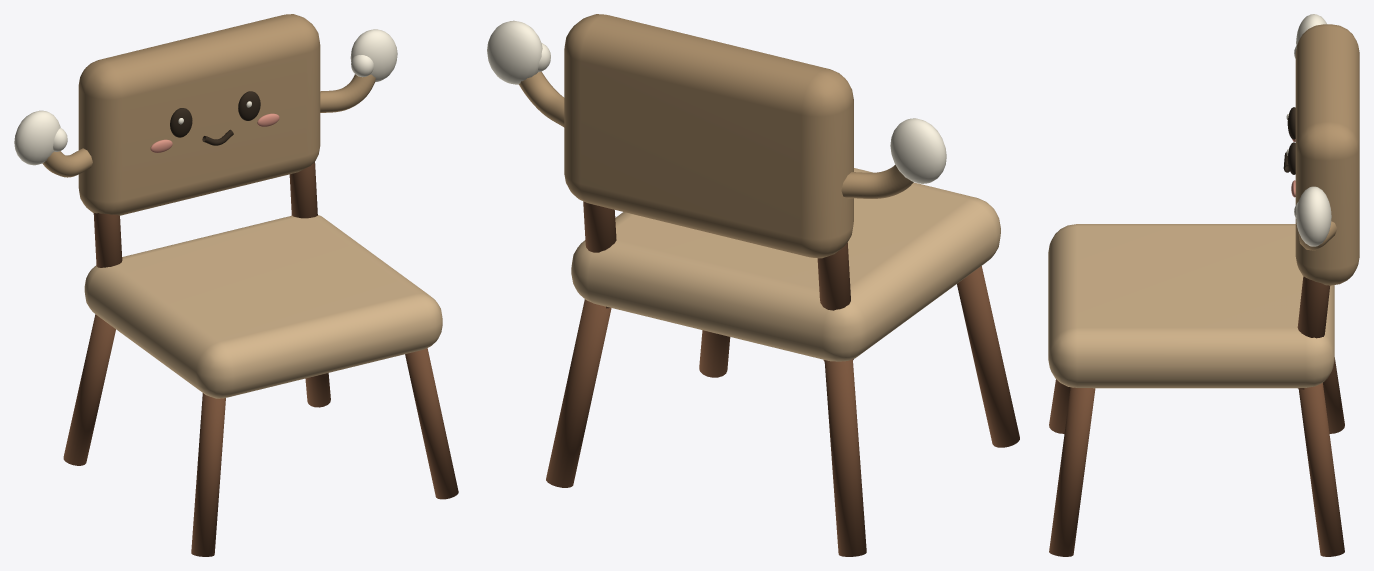
Rendered from chair.glb.
3 renders of one model, left to right at view 1: azimuth 30°, elevation 25°; view 2: azimuth 150°, elevation 25°; view 3: azimuth 270°, elevation 25°, orthographic. The views are drawn at different scales.
Parts seen in each view (by area): view 1: Сиденье, Обивка спинки, Ножка, Ножка.002, Ножка.001, Face_Hand, Face_Hand.001, Стойка, Стойка.001, Face_Arm.001, Face_Arm, Ножка.003; view 2: Обивка спинки, Сиденье, Ножка.001, Ножка.003, Ножка, Face_Hand, Face_Hand.001, Стойка, Face_Arm, Стойка.001, Face_Arm.001, Ножка.002; view 3: Сиденье, Обивка спинки, Ножка.003, Ножка.002, Face_Hand.001, Стойка.001, Ножка.001, Ножка.
Boxes of the visible parts, x1=… form: Сиденье: x1=84, y1=215, x2=442, y2=398; Обивка спинки: x1=78, y1=14, x2=320, y2=215; Ножка: x1=191, y1=393, x2=225, y2=556; Ножка.002: x1=405, y1=348, x2=458, y2=499; Ножка.001: x1=63, y1=314, x2=115, y2=465; Face_Hand: x1=14, y1=110, x2=60, y2=165; Face_Hand.001: x1=350, y1=29, x2=397, y2=82; Стойка: x1=93, y1=213, x2=122, y2=319; Стойка.001: x1=289, y1=162, x2=317, y2=218; Face_Arm.001: x1=320, y1=74, x2=375, y2=112; Face_Arm: x1=42, y1=148, x2=92, y2=177; Ножка.003: x1=305, y1=373, x2=330, y2=407; Обивка спинки: x1=564, y1=14, x2=853, y2=258; Сиденье: x1=571, y1=168, x2=1000, y2=361; Ножка.001: x1=824, y1=359, x2=866, y2=556; Ножка.003: x1=546, y1=299, x2=611, y2=487; Ножка: x1=957, y1=266, x2=1019, y2=447; Face_Hand: x1=890, y1=118, x2=946, y2=183; Face_Hand.001: x1=487, y1=20, x2=542, y2=84; Стойка: x1=817, y1=242, x2=853, y2=361; Face_Arm: x1=841, y1=165, x2=913, y2=198; Стойка.001: x1=583, y1=201, x2=616, y2=308; Face_Arm.001: x1=518, y1=71, x2=564, y2=127; Ножка.002: x1=699, y1=330, x2=730, y2=377; Сиденье: x1=1048, y1=224, x2=1334, y2=388; Обивка спинки: x1=1295, y1=24, x2=1359, y2=285; Ножка.003: x1=1298, y1=383, x2=1344, y2=556; Ножка.002: x1=1049, y1=387, x2=1095, y2=556; Face_Hand.001: x1=1296, y1=186, x2=1331, y2=246; Стойка.001: x1=1297, y1=276, x2=1329, y2=389; Ножка.001: x1=1323, y1=357, x2=1344, y2=433; Ножка: x1=1049, y1=379, x2=1070, y2=433.
Size of the model in its own units: 1.67 by 1.66 by 1.12.
